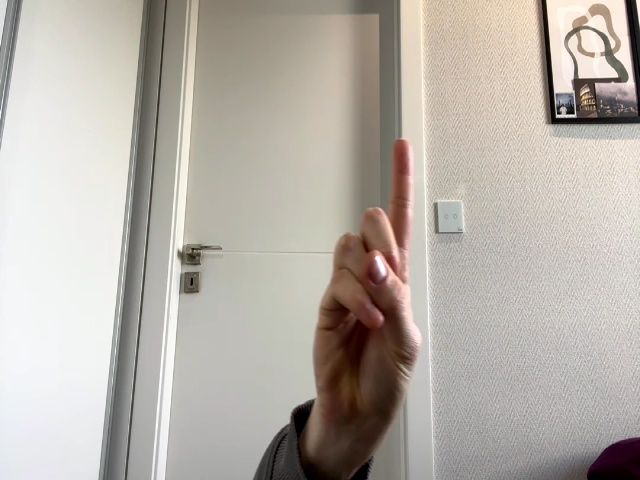Z: (313, 139, 422, 413)
